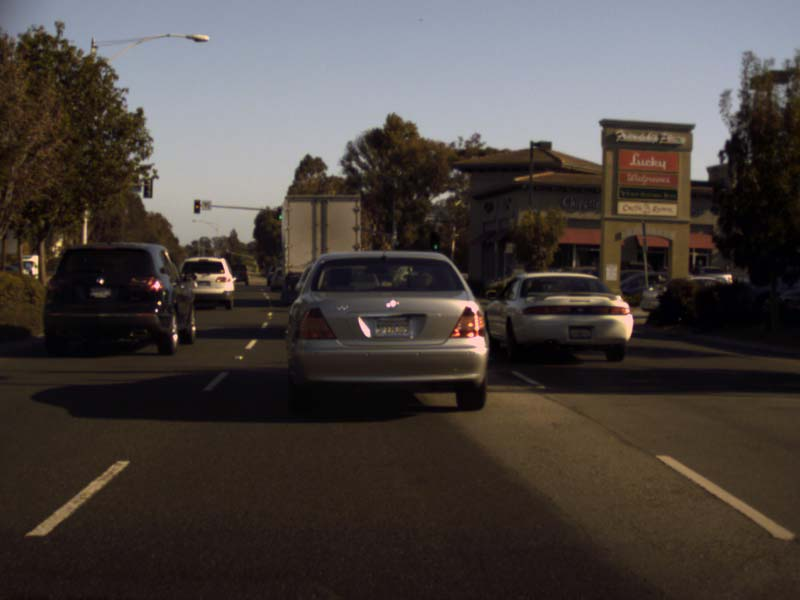Green: (430, 231, 438, 249), (277, 206, 282, 220)
Yellow: (193, 199, 200, 213)
